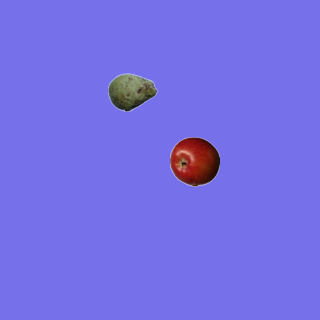Apple Braeburn: (169, 136, 219, 186)
Pear Stone: (107, 67, 157, 117)
